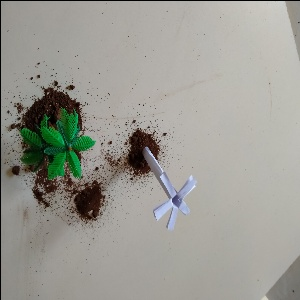plant: (20, 106, 86, 179)
weed: (136, 137, 192, 225)
